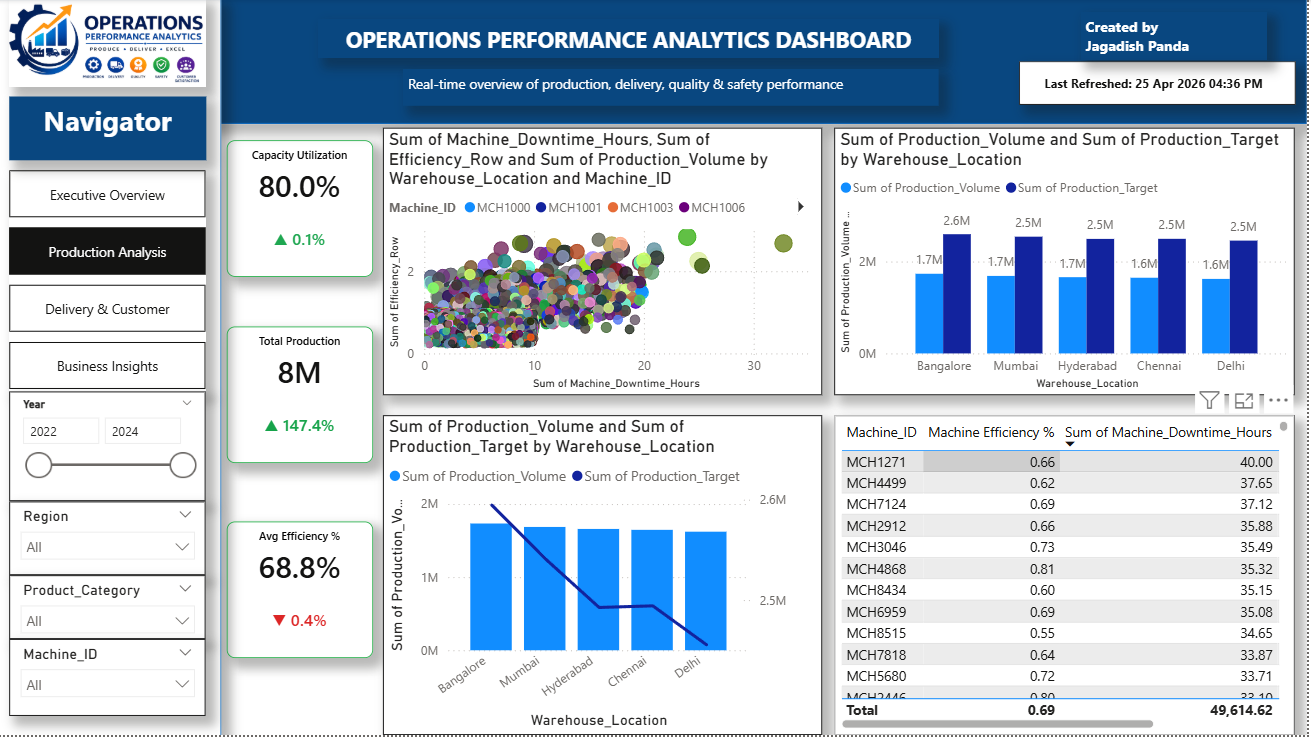

What the dashboard file says about the page in this screenshot:
{"tool":"powerbi","page":{"name":"Production Analysis","canvas":[1280,720],"ordinal":1},"visuals":[{"type":"shape","box":[0,0,1280.3,122.2],"z":0},{"type":"shape","box":[0,0,218.6,721.8],"z":1000},{"type":"image","box":[11.3,0,192.2,86.7],"z":2000},{"type":"textbox","box":[313,20.1,607.5,38.5],"z":3000},{"type":"cardVisual","fields":{"Data":["Sheet1.Last Refreshed"]},"box":[999,61.7,270.3,42.5],"z":5000},{"type":"textbox","box":[396.2,68.6,523.7,35.6],"z":6000},{"type":"cardVisual","fields":{"Data":["Sheet1.Capacity Utilization"]},"box":[224.3,137.6,143.2,133.8],"z":7000},{"type":"pageNavigator","box":[11.3,167.7,192.2,216.7],"z":8000},{"type":"textbox","box":[10.8,95.7,192.8,62],"z":9000},{"type":"cardVisual","fields":{"Data":["Sheet1.Total Production"]},"box":[224.3,320.4,143.2,133.8],"z":10000},{"type":"cardVisual","fields":{"Data":["Sheet1.Avg Efficiency %"]},"box":[224.3,510.7,143.2,133.8],"z":11000},{"type":"slicer","fields":{"Values":["Sheet1.Production_Date.Variation.Date Hierarchy.Year"]},"box":[11.3,384.5,192.2,107.4],"z":12000},{"type":"slicer","fields":{"Values":["Sheet1.Region"]},"box":[11.3,491.9,192.2,71.6],"z":13000},{"type":"slicer","fields":{"Values":["Sheet1.Product_Category"]},"box":[11.3,563.5,192.2,62.2],"z":14000},{"type":"scatterChart","fields":{"X":["Sum(Sheet1.Machine_Downtime_Hours)"],"Y":["Sum(Sheet1.Efficiency_Row)"],"Size":["Sum(Sheet1.Production_Volume)"],"Category":["Sheet1.Warehouse_Location"],"Series":["Sheet1.Machine_ID"]},"box":[376.9,126.3,429.7,262],"z":15000},{"type":"slicer","fields":{"Values":["Sheet1.Machine_ID"]},"box":[11.3,625.7,192.2,75.4],"z":16000},{"type":"clusteredColumnChart","fields":{"Category":["Sheet1.Warehouse_Location"],"Y":["Sum(Sheet1.Production_Volume)","Sum(Sheet1.Production_Target)"]},"box":[817.9,126.3,450.4,262],"z":17000},{"type":"lineClusteredColumnComboChart","fields":{"Category":["Sheet1.Warehouse_Location"],"Y":["Sum(Sheet1.Production_Volume)"],"Y2":["Sum(Sheet1.Production_Target)"]},"box":[376.9,407.1,429.7,312.8],"z":18000},{"type":"tableEx","fields":{"Values":["Sheet1.Machine_ID","Sheet1.Machine Efficiency %","Sum(Sheet1.Machine_Downtime_Hours)","Sum(Sheet1.Production_Volume)"]},"box":[817.9,407.1,450.4,312.8],"z":19000},{"type":"textbox","box":[1059.4,11.7,182.4,46.9],"z":19001}]}

Visuals, with their boxes on the page's 1280x720 design canvas (x1, y1, x2, y2). These are canvas units, not pixel positions in the 1311x737 screenshot, which may show the page scaled, cropped or inside an application window:
shape: left=0, top=0, right=1280, bottom=122
shape: left=0, top=0, right=219, bottom=722
image: left=11, top=0, right=204, bottom=87
textbox: left=313, top=20, right=920, bottom=59
cardVisual - Sheet1.Last Refreshed: left=999, top=62, right=1269, bottom=104
textbox: left=396, top=69, right=920, bottom=104
cardVisual - Sheet1.Capacity Utilization: left=224, top=138, right=368, bottom=271
pageNavigator: left=11, top=168, right=204, bottom=384
textbox: left=11, top=96, right=204, bottom=158
cardVisual - Sheet1.Total Production: left=224, top=320, right=368, bottom=454
cardVisual - Sheet1.Avg Efficiency %: left=224, top=511, right=368, bottom=644
slicer - Sheet1.Production_Date.Variation.Date Hierarchy.Year: left=11, top=384, right=204, bottom=492
slicer - Sheet1.Region: left=11, top=492, right=204, bottom=564
slicer - Sheet1.Product_Category: left=11, top=564, right=204, bottom=626
scatterChart - Sum(Sheet1.Machine_Downtime_Hours) x Sum(Sheet1.Efficiency_Row): left=377, top=126, right=807, bottom=388
slicer - Sheet1.Machine_ID: left=11, top=626, right=204, bottom=701
clusteredColumnChart - Sheet1.Warehouse_Location x Sum(Sheet1.Production_Volume): left=818, top=126, right=1268, bottom=388
lineClusteredColumnComboChart - Sheet1.Warehouse_Location x Sum(Sheet1.Production_Volume): left=377, top=407, right=807, bottom=720
tableEx - Sheet1.Machine_ID x Sheet1.Machine Efficiency %: left=818, top=407, right=1268, bottom=720
textbox: left=1059, top=12, right=1242, bottom=59
